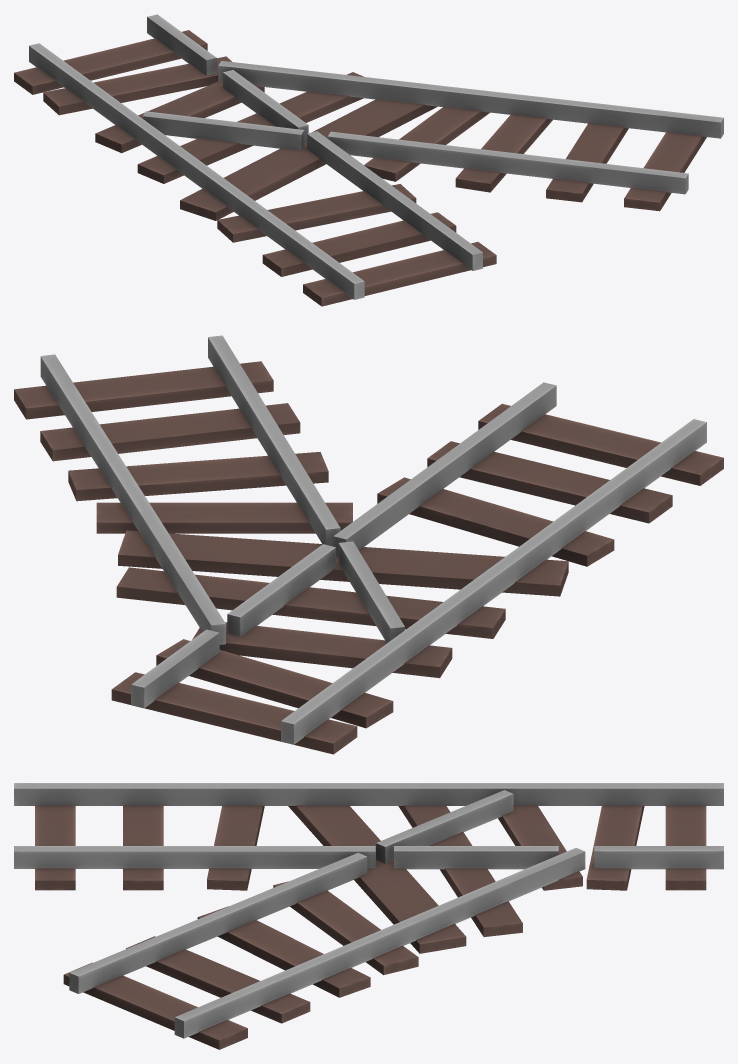
File: RailsObject_4.fbx
The picture shows the model from 3 angles, top to bottom: view 1: azimuth 30°, elevation 25°; view 2: azimuth 150°, elevation 25°; view 3: azimuth 270°, elevation 25°; orthographic projection. The views are drawn at different scales.
Visible parts, largest first — view 1: RailsObject_4; view 2: RailsObject_4; view 3: RailsObject_4.
Part boxes in pixels (x1,y1,x2,y2): RailsObject_4: (14, 14, 723, 306); RailsObject_4: (14, 335, 723, 754); RailsObject_4: (14, 783, 723, 1049).
Bounding box in the file's own units: 116 × 5.56 × 136.
